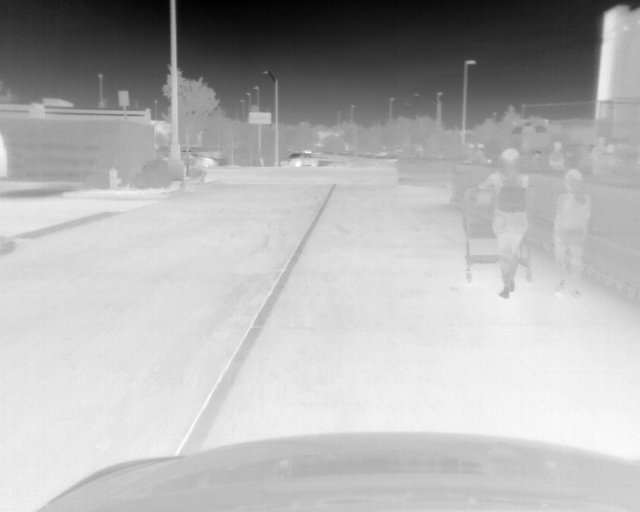car: (180, 144, 225, 171), (282, 150, 318, 168)
people: (476, 148, 529, 300), (553, 168, 591, 297), (602, 142, 623, 171), (548, 140, 568, 170), (591, 136, 606, 165)
